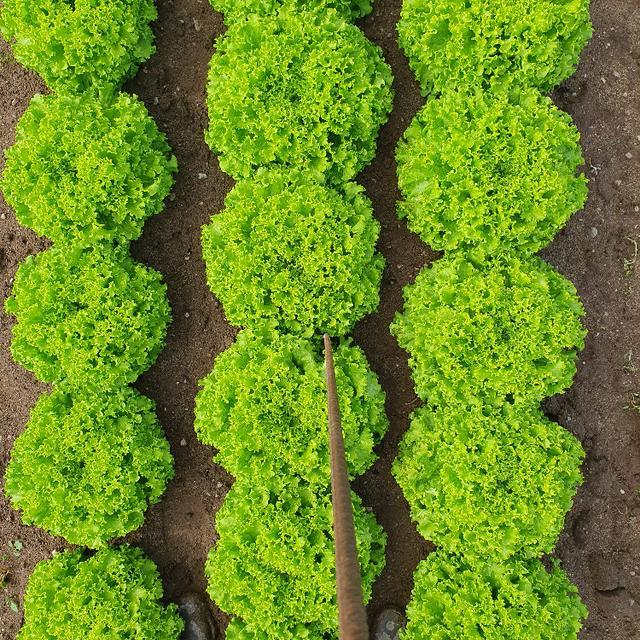Lettuce: (388, 248, 598, 412), (394, 85, 594, 257), (207, 5, 400, 183), (194, 323, 394, 492), (196, 172, 392, 338), (393, 402, 592, 556), (0, 382, 175, 553), (7, 85, 182, 250), (203, 485, 395, 628), (3, 240, 175, 390), (396, 0, 598, 103), (403, 546, 594, 640), (18, 541, 188, 640), (0, 0, 170, 91)
